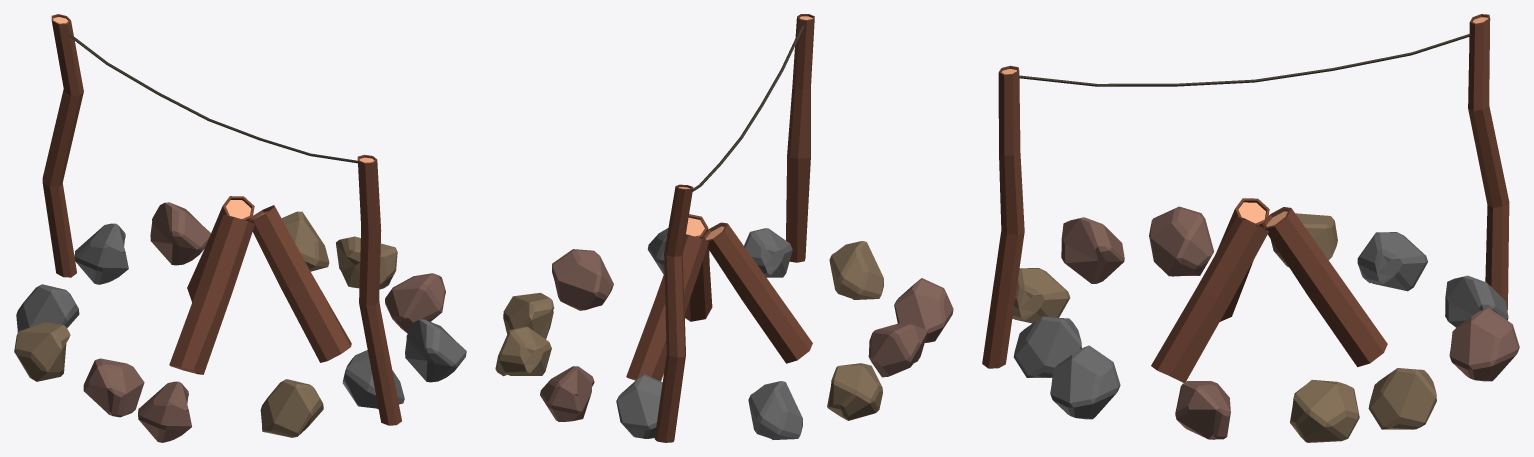
File: fireplace.fbx
3 renders of one model, left to right at view 1: azimuth 30°, elevation 25°; view 2: azimuth 150°, elevation 25°; view 3: azimuth 270°, elevation 25°, orthographic. The views are drawn at different scales.
Parts seen in each view (by area): view 1: fireplace; view 2: fireplace; view 3: fireplace.
Boxes of the visible parts, bbox=[...] form: fireplace: bbox=[14, 14, 466, 442]; fireplace: bbox=[495, 14, 953, 442]; fireplace: bbox=[982, 14, 1519, 442].
Bounding box in the file's own units: 2.53 × 1.75 × 2.84.
